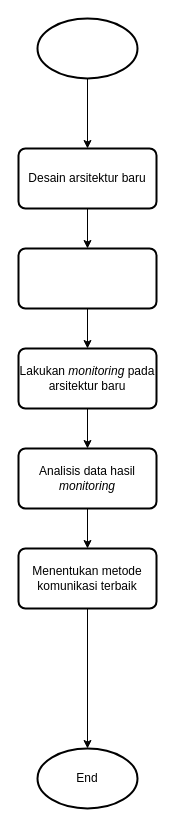
The diagram is 174 pixels wide and 826 high, and some of its shapes have lost their labels. Here are the shapes that lost their labels. From the top down, the centre of each, then its label:
At [87,48]: "Mulai".
At [87,278]: "Implementasi arsitektur baru".
